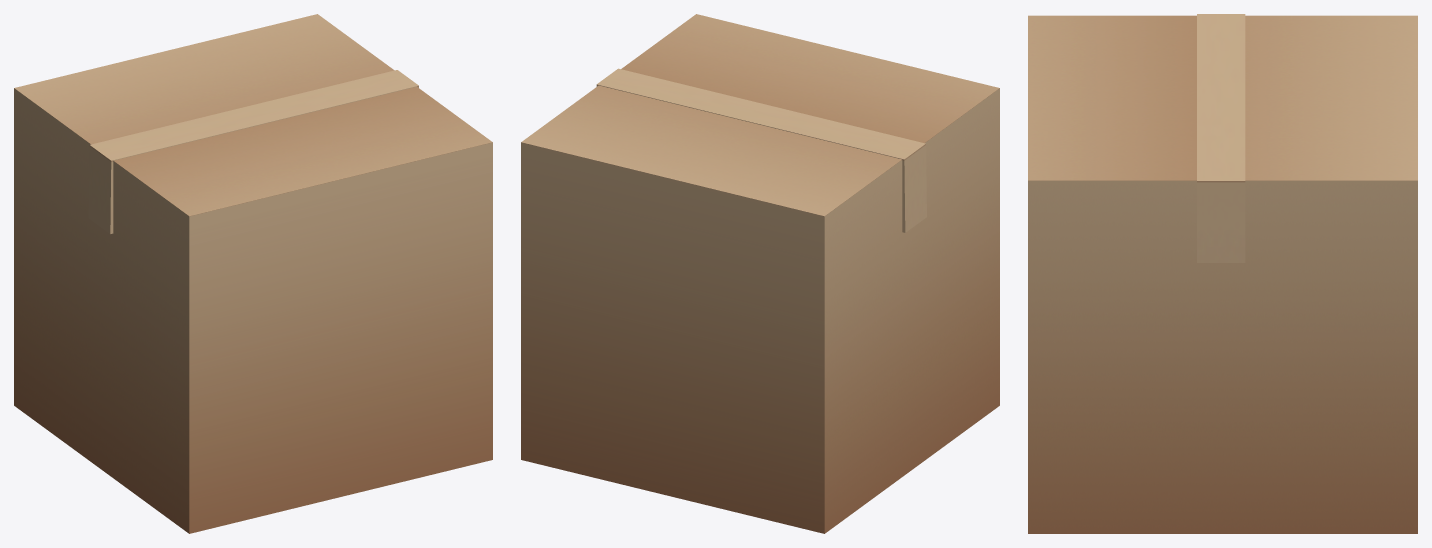
The model's file is Package_Box_Closed.FBX.
3 renders of one model, left to right at view 1: azimuth 30°, elevation 25°; view 2: azimuth 150°, elevation 25°; view 3: azimuth 270°, elevation 25°, orthographic. The views are drawn at different scales.
Visible parts, largest first — view 1: Package_Box_Closed; view 2: Package_Box_Closed; view 3: Package_Box_Closed.
Boxes of the visible parts, x1=… form: Package_Box_Closed: x1=14, y1=14, x2=492, y2=533; Package_Box_Closed: x1=521, y1=14, x2=999, y2=533; Package_Box_Closed: x1=1028, y1=14, x2=1417, y2=533.
Bounding box in the file's own units: 1.02 × 1 × 1.
1 material, 1 textured.
